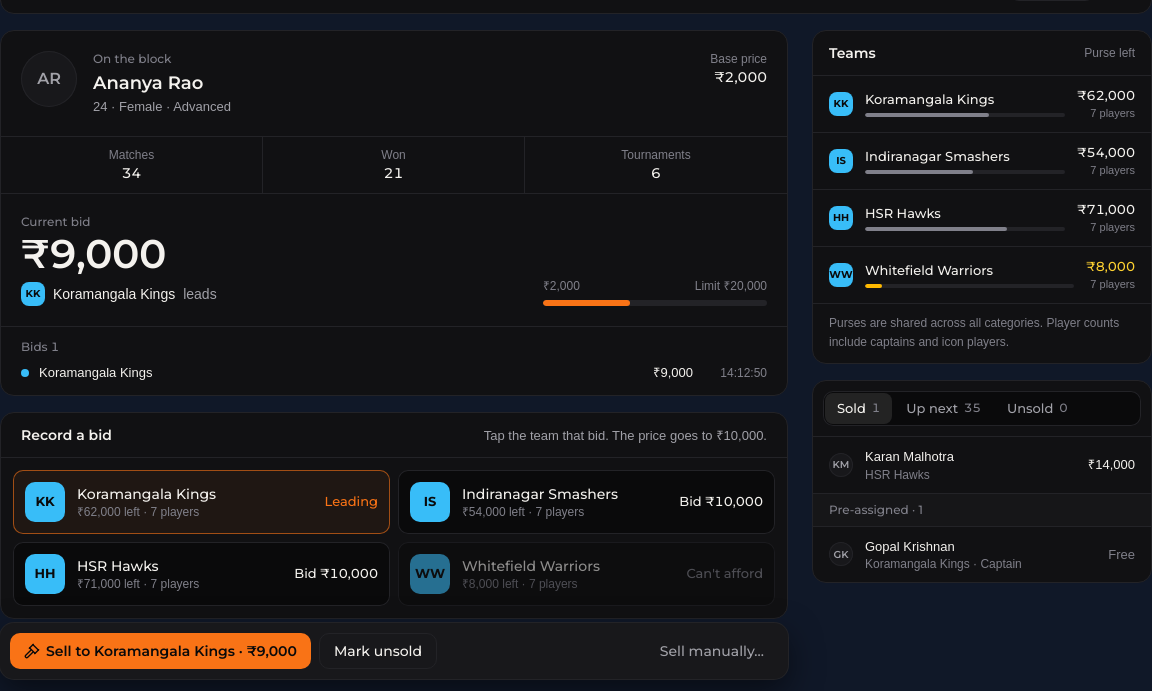
it: AuctionSection › shows the server's reason when an action fails, inside Sell manually too
(page scrolled)
Click the button "IS Indiranagar Smashers ₹54,000 left · 7 players Bid ₹10,000" at (586, 502), box left=398, top=470, right=775, bottom=534
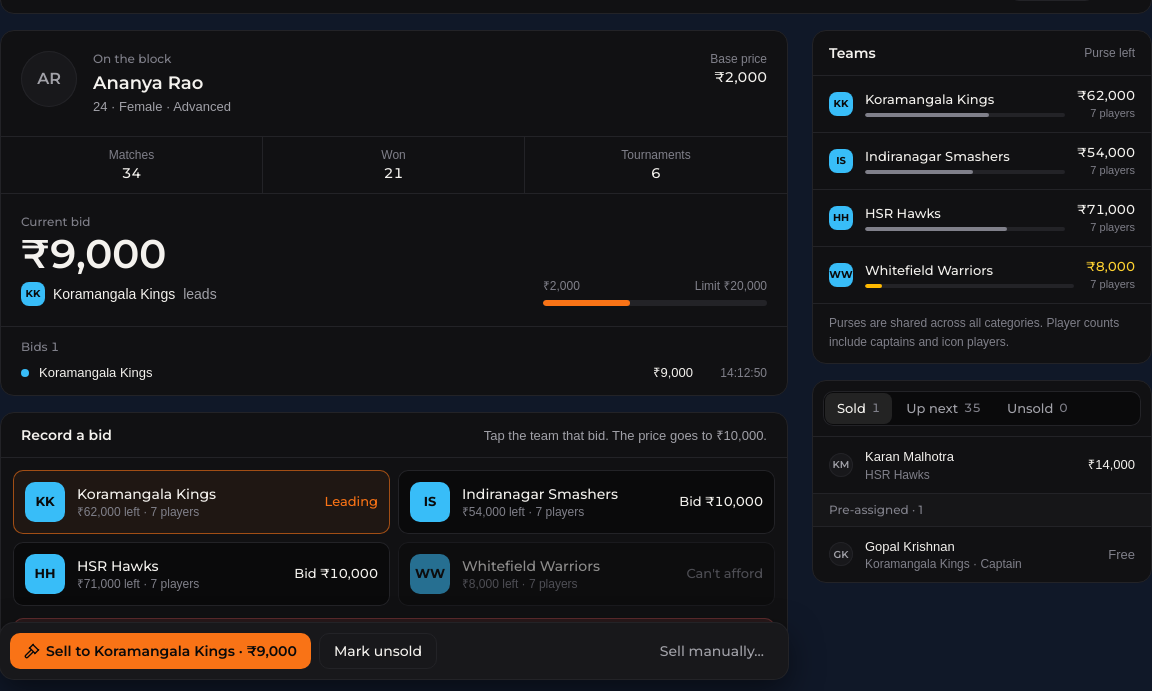
Expected: the message reads "Team budget insufficient. Available: ₹54000, Bid would be: ₹60000", left=53, top=633, right=435, bottom=648
Click the button "Sell manually…" at (712, 651), box left=646, top=633, right=778, bottom=669
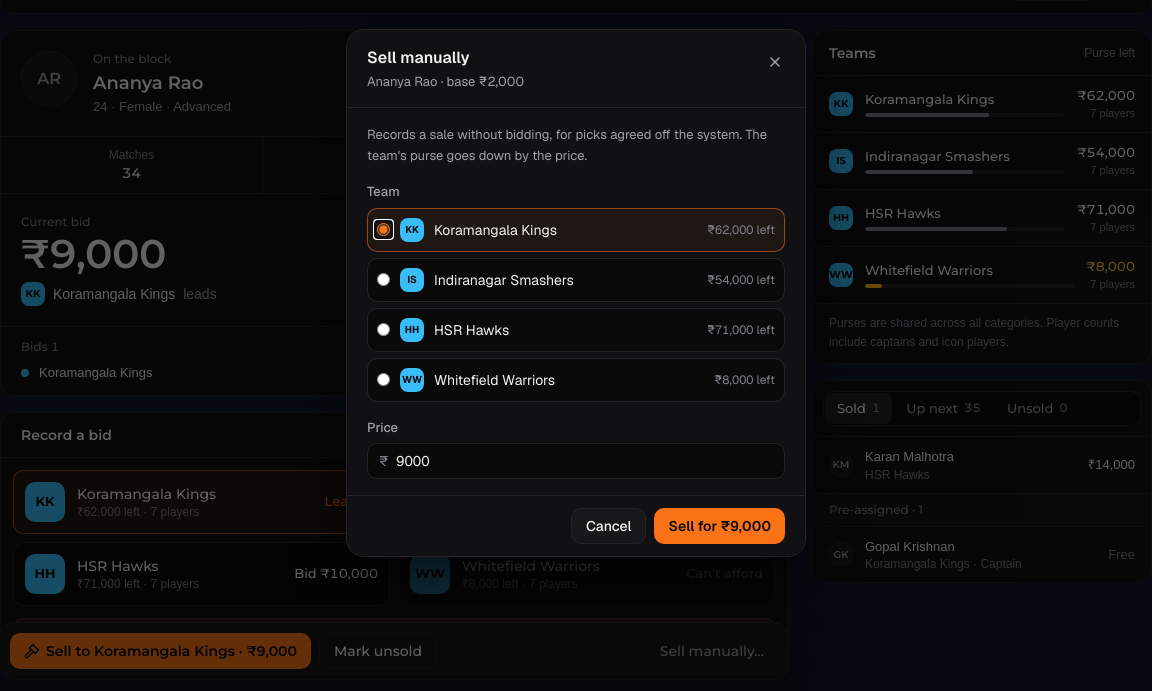
Click the radio button labelled "HSR Hawks" at (384, 330), box left=377, top=323, right=390, bottom=336
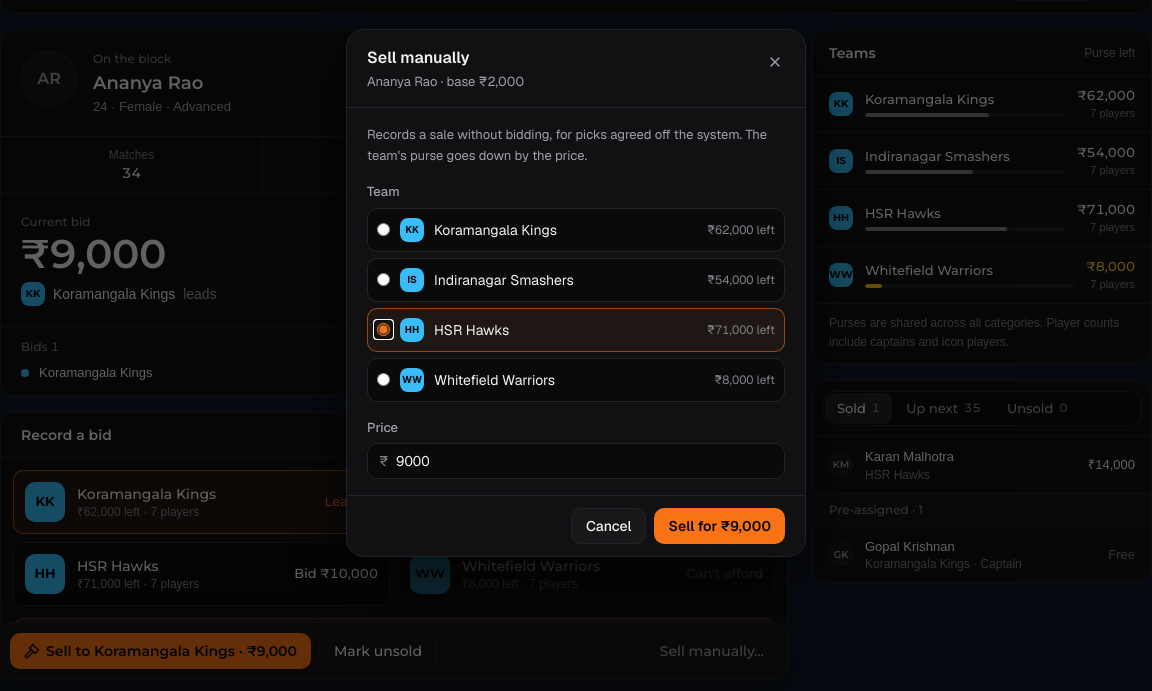
Click the button "Sell for ₹9,000" at (720, 526), box left=654, top=508, right=785, bottom=544
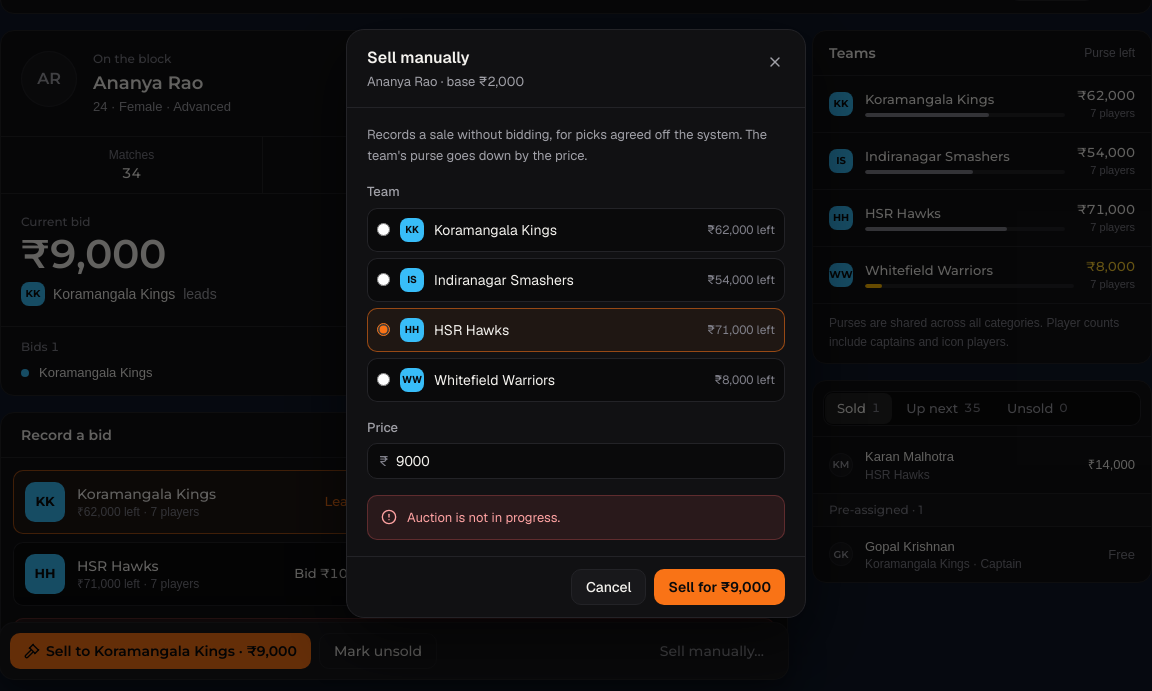
Result: the dialog "Sell manually" is shown at left=346, top=29, right=806, bottom=618
Result: the message reads "Auction is not in progress." at left=407, top=509, right=560, bottom=526
